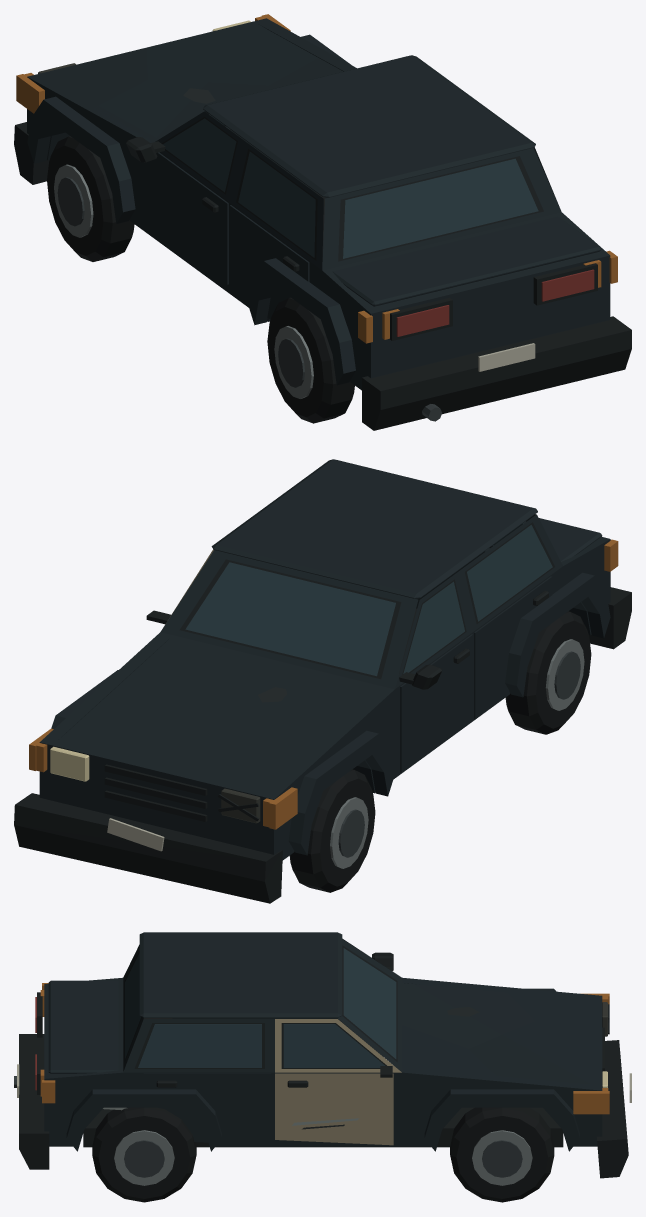
Rendered from Felony_City_Getaway_Sedan.glb.
3 renders of one model, top to bottom at view 1: azimuth 30°, elevation 25°; view 2: azimuth 150°, elevation 25°; view 3: azimuth 270°, elevation 25°, orthographic. The views are drawn at different scales.
Parts seen in each view (by area): view 1: Body_Main, Hood_Dented, Wheel_RL, Wheel_FL, Bumper_Front_Skewed; view 2: Body_Main, Hood_Dented, Bumper_Front_Skewed, Wheel_RL, Wheel_FL; view 3: Body_Main, Hood_Dented, Door_Replacement, Wheel_FR, Wheel_RR, Bumper_Front_Skewed.
Part boxes in pixels (x1=…): Body_Main: x1=16, y1=14, x2=631, y2=430; Hood_Dented: x1=29, y1=20, x2=343, y2=192; Wheel_RL: x1=267, y1=297, x2=354, y2=423; Wheel_FL: x1=47, y1=136, x2=134, y2=261; Bumper_Front_Skewed: x1=14, y1=122, x2=49, y2=184; Body_Main: x1=29, y1=459, x2=631, y2=860; Hood_Dented: x1=40, y1=635, x2=392, y2=853; Bumper_Front_Skewed: x1=14, y1=793, x2=282, y2=903; Wheel_RL: x1=505, y1=611, x2=591, y2=734; Wheel_FL: x1=289, y1=769, x2=375, y2=892; Body_Main: x1=14, y1=932, x2=609, y2=1169; Hood_Dented: x1=402, y1=983, x2=602, y2=1089; Door_Replacement: x1=275, y1=1019, x2=401, y2=1145; Wheel_FR: x1=450, y1=1107, x2=554, y2=1202; Wheel_RR: x1=92, y1=1107, x2=196, y2=1202; Bumper_Front_Skewed: x1=597, y1=1004, x2=631, y2=1178.
Size of the model in its own units: 2.09 by 1.51 by 4.74.
